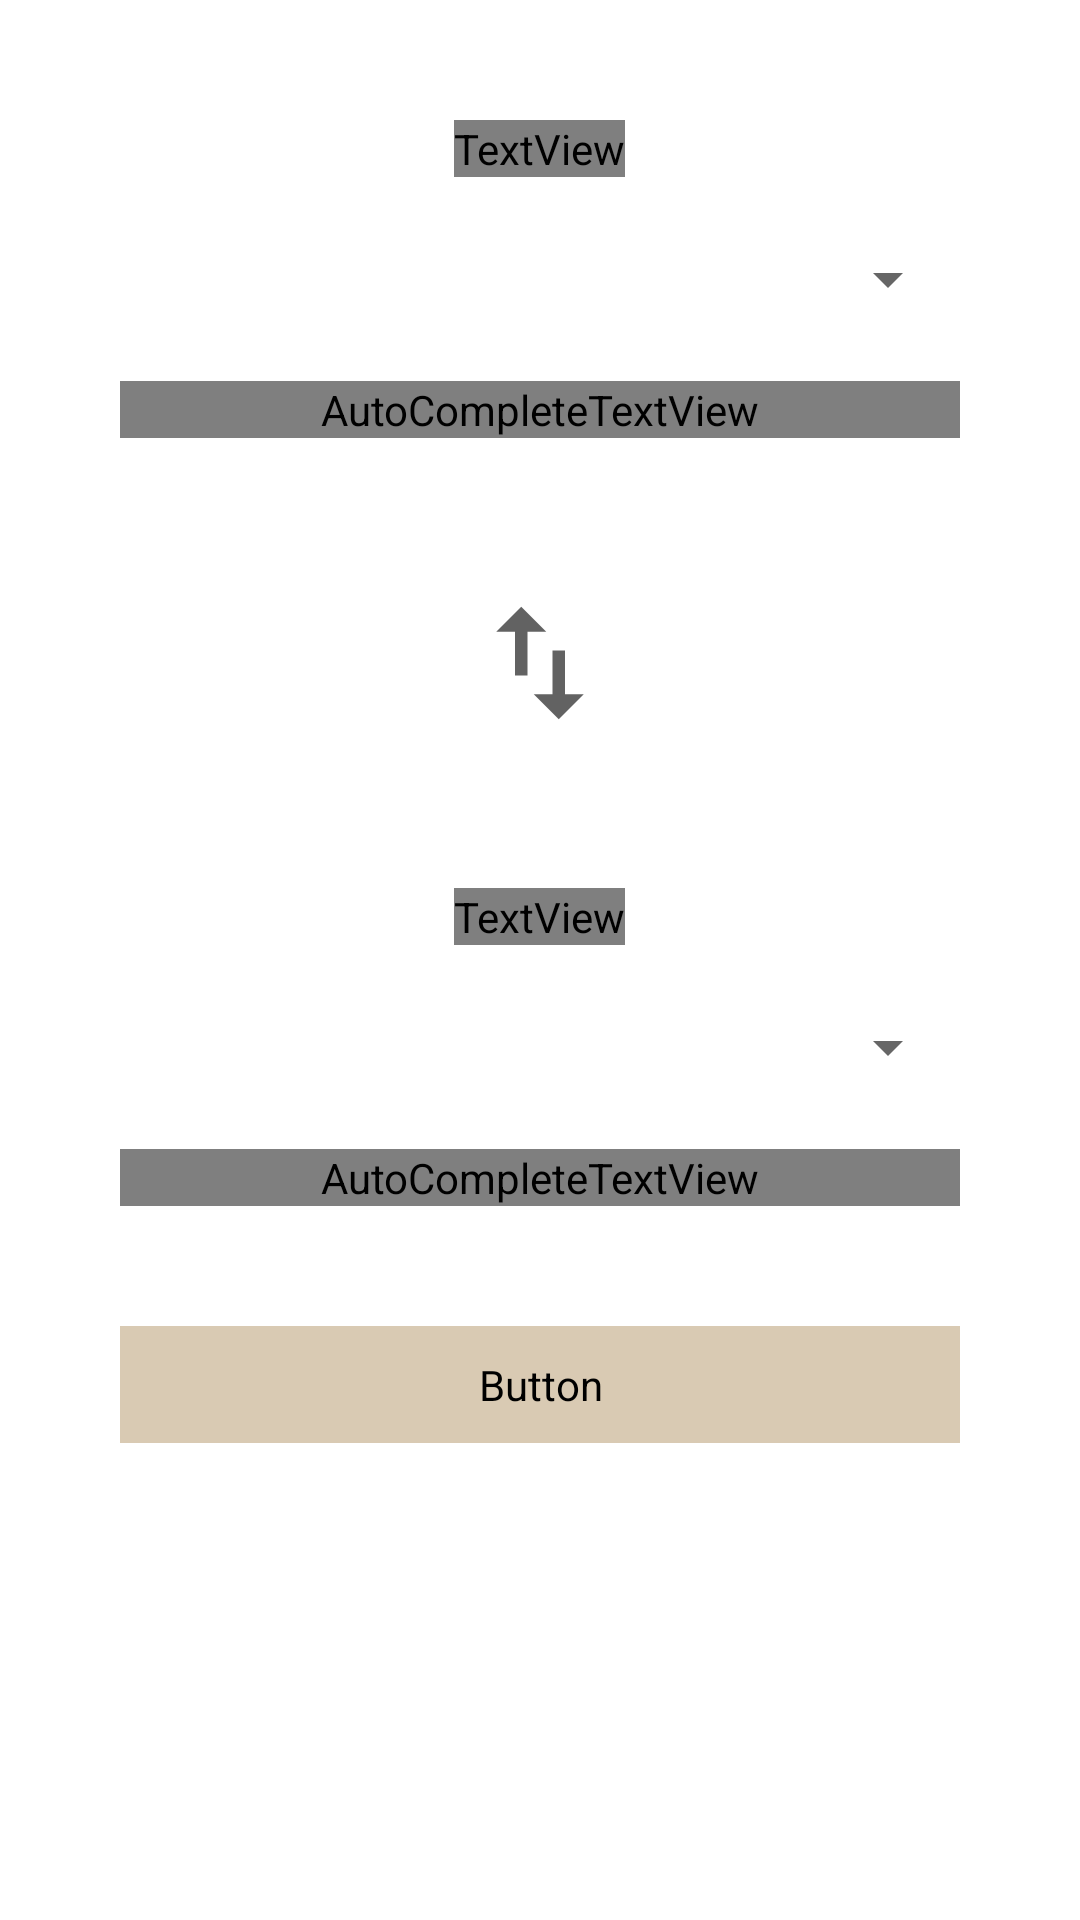

Point at icon controls on the screen. Image size 1080×1920, points as point (x, y).
swap vert: point (540, 663)
